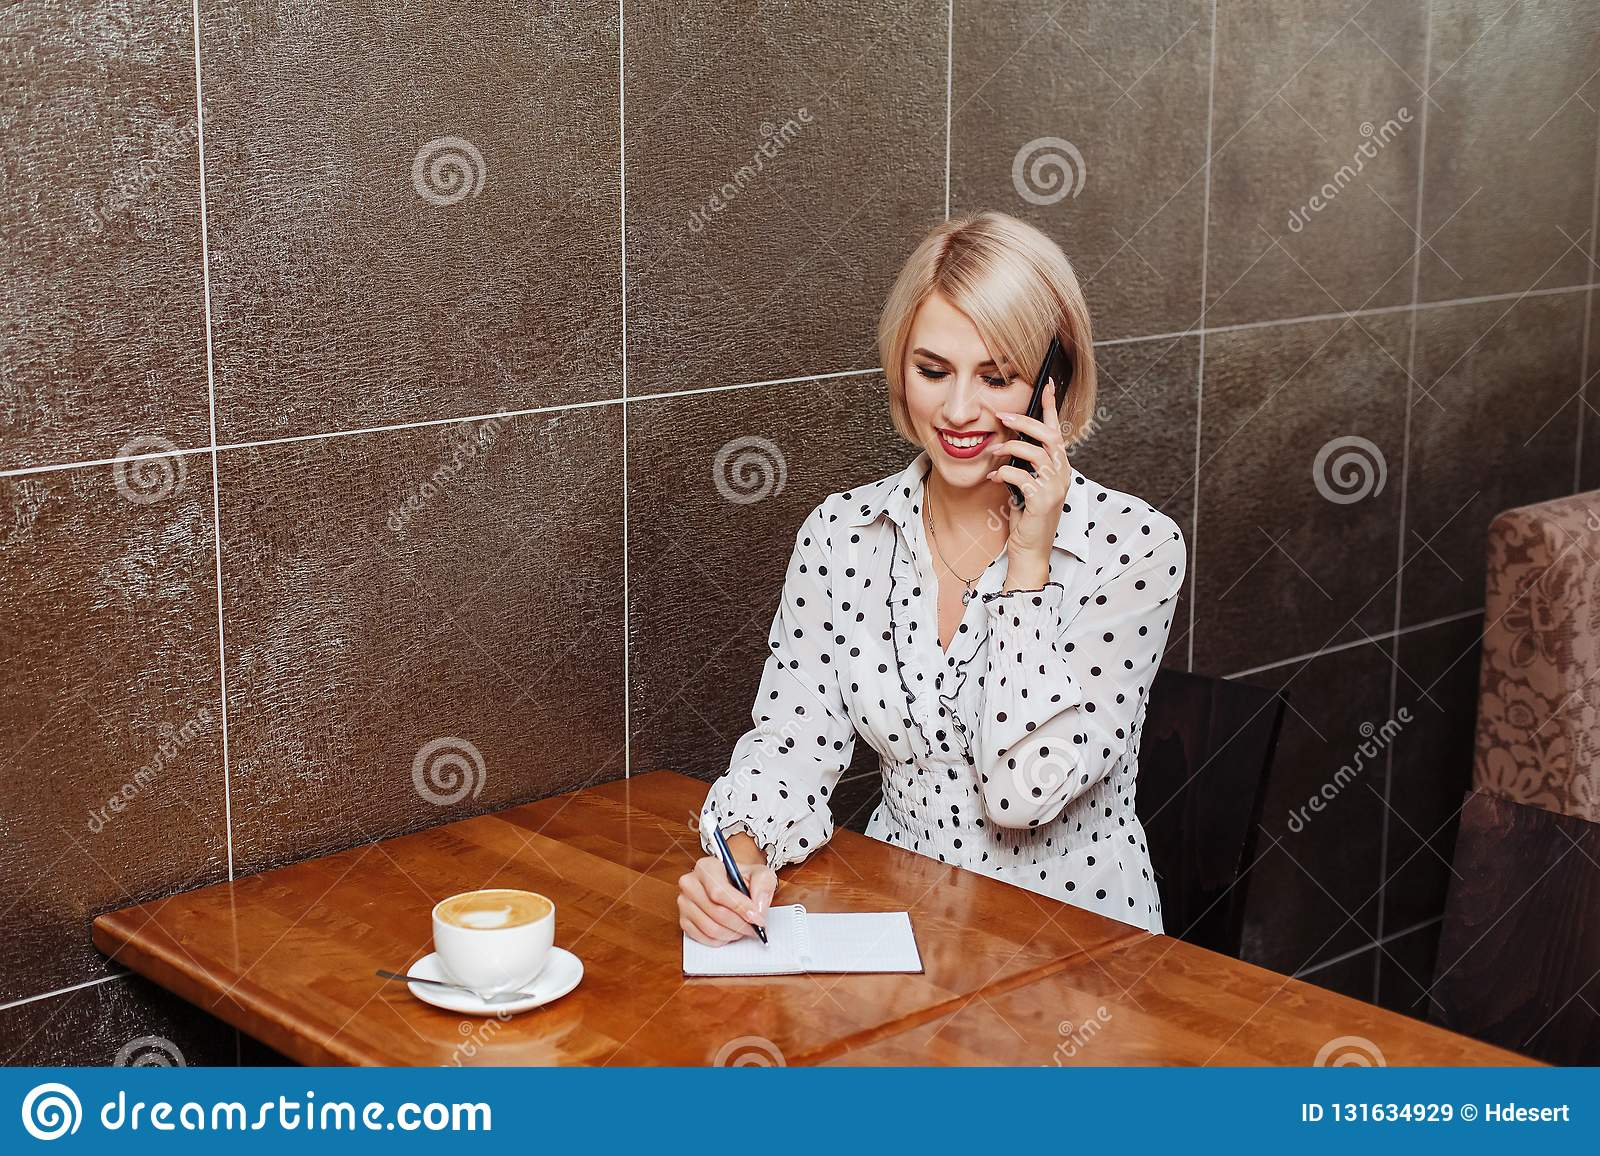phone: (1002, 339, 1080, 507)
talk: (908, 335, 1082, 555)
